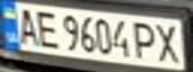0: (93, 16, 115, 56)
4: (109, 17, 133, 59)
6: (75, 14, 96, 54)
9: (57, 11, 81, 52)
A: (9, 4, 42, 45)
E: (33, 7, 60, 50)
P: (130, 19, 160, 61)
X: (151, 20, 187, 64)
